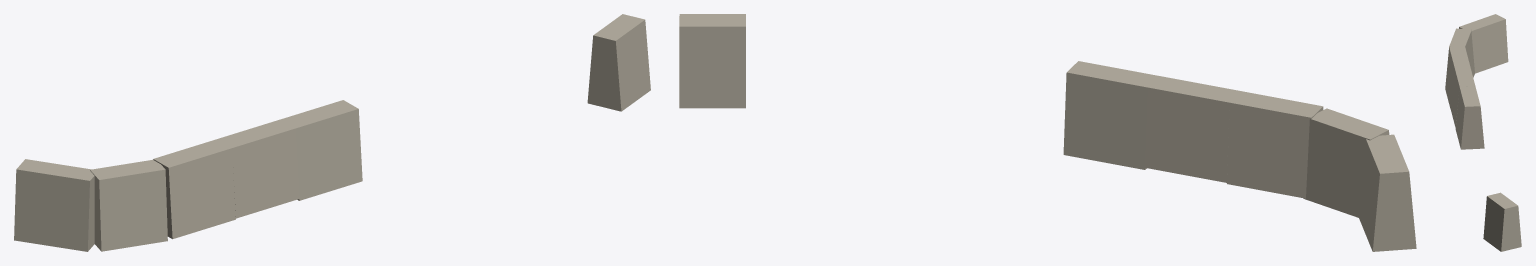
File: bormla_64_32_mid.glb
The picture shows the model from 3 angles, left to right: view 1: azimuth 30°, elevation 25°; view 2: azimuth 150°, elevation 25°; view 3: azimuth 270°, elevation 25°; orthographic projection. The views are drawn at different scales.
Parts seen in each view (by area): view 1: geometry_0; view 2: geometry_0; view 3: geometry_0.
Boxes of the visible parts, x1=… form: geometry_0: x1=14, y1=14, x2=650, y2=251; geometry_0: x1=679, y1=14, x2=1416, y2=251; geometry_0: x1=1445, y1=14, x2=1521, y2=251.
Size of the model in its own units: 114 by 13.81 by 19.28.
